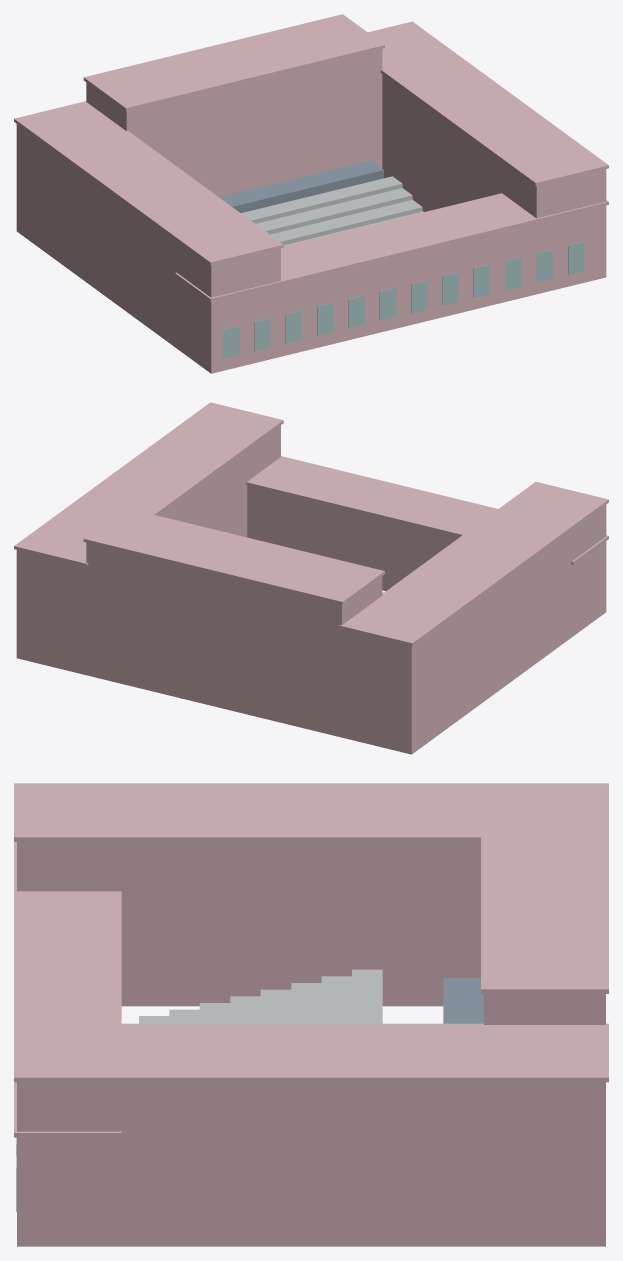
The model's file is modelo.glb.
3 renders of one model, top to bottom at view 1: azimuth 30°, elevation 25°; view 2: azimuth 150°, elevation 25°; view 3: azimuth 270°, elevation 25°, orthographic. The views are drawn at different scales.
Visible parts, largest first — view 1: ala_izquierda, escenario, acceso, ala_derecha, ala_izquierda_cornisa, ala_derecha_cornisa, escenario_cornisa, acceso_cornisa, grada (×3), vano_referencial (×12), plataforma; view 2: escenario, ala_izquierda, ala_izquierda_cornisa, ala_derecha_cornisa, ala_derecha, escenario_cornisa, acceso, acceso_cornisa; view 3: ala_derecha, ala_izquierda, ala_derecha_cornisa, ala_izquierda_cornisa, escenario_cornisa, acceso_cornisa, grada (×6), escenario, acceso, plataforma.
Boxes of the visible parts, left/top/right/bottom form: ala_izquierda: left=16, top=124, right=280, bottom=373; escenario: left=86, top=49, right=382, bottom=196; acceso: left=177, top=207, right=606, bottom=373; ala_derecha: left=382, top=74, right=606, bottom=293; ala_izquierda_cornisa: left=14, top=101, right=283, bottom=265; ala_derecha_cornisa: left=368, top=21, right=608, bottom=185; escenario_cornisa: left=83, top=14, right=384, bottom=111; acceso_cornisa: left=175, top=193, right=608, bottom=301; grada (×3): left=241, top=176, right=422, bottom=245; vano_referencial (×12): left=223, top=241, right=584, bottom=358; plataforma: left=219, top=160, right=383, bottom=212; escenario: left=86, top=542, right=382, bottom=737; ala_izquierda: left=342, top=505, right=606, bottom=754; ala_izquierda_cornisa: left=339, top=482, right=608, bottom=646; ala_derecha_cornisa: left=14, top=402, right=283, bottom=566; ala_derecha: left=16, top=425, right=280, bottom=674; escenario_cornisa: left=83, top=508, right=384, bottom=604; acceso: left=247, top=485, right=606, bottom=616; acceso_cornisa: left=246, top=456, right=608, bottom=564; ala_derecha: left=17, top=1082, right=605, bottom=1246; ala_izquierda: left=17, top=842, right=480, bottom=1006; ala_derecha_cornisa: left=14, top=1023, right=608, bottom=1082; ala_izquierda_cornisa: left=14, top=783, right=608, bottom=841; escenario_cornisa: left=481, top=798, right=608, bottom=993; acceso_cornisa: left=14, top=842, right=121, bottom=1137; grada (×6): left=199, top=969, right=382, bottom=1023; escenario: left=484, top=994, right=605, bottom=1024; acceso: left=17, top=1137, right=118, bottom=1246; plataforma: left=443, top=978, right=483, bottom=1023.
Bounding box in the file's own units: 34.3 × 11.25 × 29.3.
